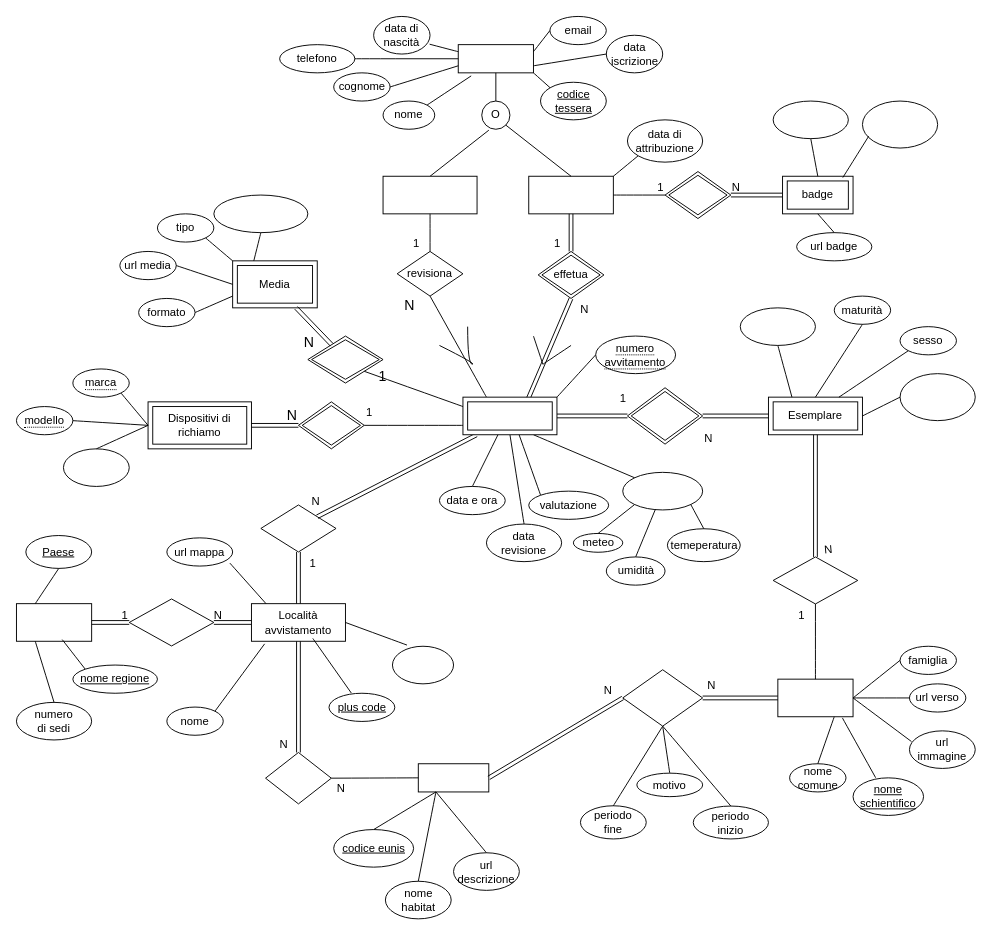
Some shapes in this 992 by 935 pixel diagram are drawn without their labels. Each missing label, with the box of its shape:
appartiene a: (128, 598, 214, 646)
area protetta: (392, 645, 454, 684)
avviene in: (260, 504, 336, 552)
Avvistamento: (462, 396, 557, 435)
Condizioni Ambientali: (622, 471, 703, 510)
condizioni di salute: (899, 373, 975, 421)
Contiene: (627, 387, 703, 444)
data assegnazione: (862, 100, 938, 148)
Habitat: (417, 763, 489, 792)
nome badge: (772, 100, 848, 139)
numero esempare: (739, 307, 815, 345)
Osservatore: (528, 175, 613, 214)
ottiene: (664, 171, 731, 219)
pattern migratori: (622, 669, 703, 726)
Possiede: (307, 335, 383, 383)
rappresenta: (772, 556, 858, 604)
Regione: (16, 603, 92, 641)
Revisore: (382, 175, 477, 214)
Socio: (457, 44, 533, 73)
Specie: (777, 678, 853, 717)
tipo di richiamo: (63, 448, 129, 486)
Titolo media: (213, 194, 308, 233)
usa: (298, 401, 364, 449)
è presente in: (265, 752, 331, 804)
